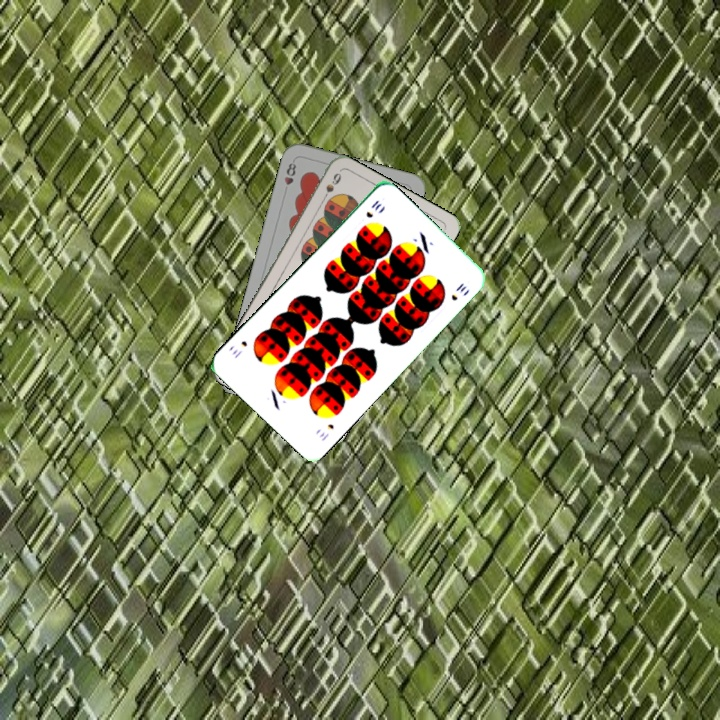H8: (280, 159, 299, 188)
S10: (362, 196, 384, 220), (315, 420, 336, 444)
S9: (317, 169, 344, 206)
